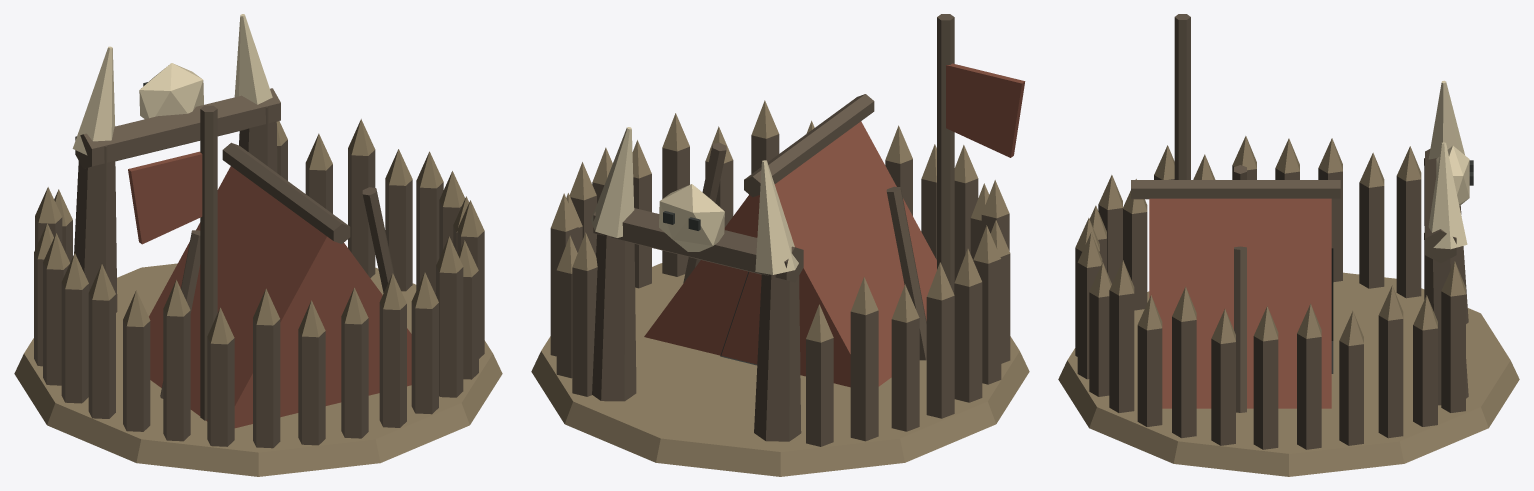
Rendered from Faction_OrcStockade.fbx.
3 views of the same model, side by side, from view 1: azimuth 30°, elevation 25°; view 2: azimuth 150°, elevation 25°; view 3: azimuth 270°, elevation 25° (orthographic). The views are drawn at different scales.
Parts seen in each view (by area): view 1: Faction_OrcStockade; view 2: Faction_OrcStockade; view 3: Faction_OrcStockade.
Part boxes in pixels (bbox=[...]): Faction_OrcStockade: bbox=[14, 14, 502, 476]; Faction_OrcStockade: bbox=[531, 14, 1029, 476]; Faction_OrcStockade: bbox=[1058, 14, 1519, 476].
Bounding box in the file's own units: 1.52 × 1.14 × 1.52.
